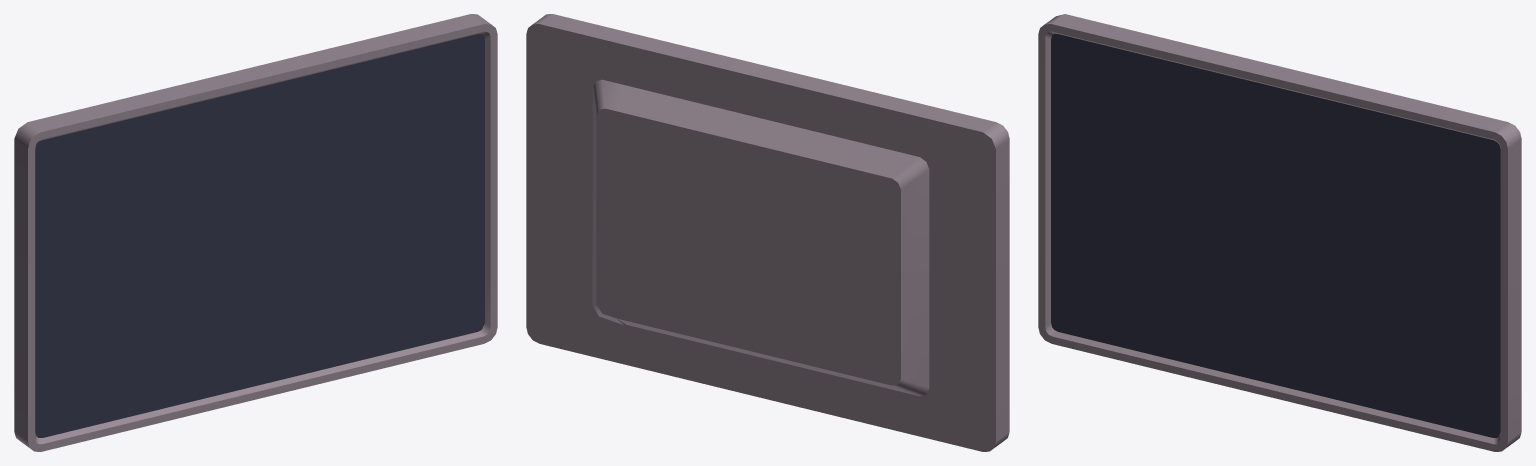
3 renders of one model, left to right at view 1: azimuth 30°, elevation 25°; view 2: azimuth 150°, elevation 25°; view 3: azimuth 330°, elevation 25°, orthographic.
Parts seen in each view (by area): view 1: polySurface1_FRAC1_1, polySurface1_FRAC3_1, polySurface1_FRAC2_2, polySurface1_FRAC5_1, polySurface1_FRAC4_1; view 2: polySurface1_FRAC1_1, polySurface1_FRAC3_1, polySurface1_FRAC2_2, polySurface1_FRAC5_1, polySurface1_FRAC4_1; view 3: polySurface1_FRAC1_1, polySurface1_FRAC3_1, polySurface1_FRAC2_2, polySurface1_FRAC5_1, polySurface1_FRAC4_1.
Part boxes in pixels (<box>): polySurface1_FRAC1_1: <box>14,29,421,286</box>; polySurface1_FRAC3_1: <box>14,204,319,451</box>; polySurface1_FRAC2_2: <box>367,14,497,329</box>; polySurface1_FRAC5_1: <box>221,162,397,407</box>; polySurface1_FRAC4_1: <box>391,265,497,366</box>; polySurface1_FRAC1_1: <box>603,29,1009,286</box>; polySurface1_FRAC3_1: <box>693,217,1009,451</box>; polySurface1_FRAC2_2: <box>526,14,642,334</box>; polySurface1_FRAC5_1: <box>616,173,804,408</box>; polySurface1_FRAC4_1: <box>526,269,631,366</box>; polySurface1_FRAC1_1: <box>1038,14,1444,233</box>; polySurface1_FRAC3_1: <box>1038,172,1335,387</box>; polySurface1_FRAC2_2: <box>1382,106,1521,397</box>; polySurface1_FRAC5_1: <box>1231,214,1413,428</box>; polySurface1_FRAC4_1: <box>1401,373,1521,451</box>.
Size of the model in its own units: 178 by 115 by 17.15.
1 material, 1 textured.
